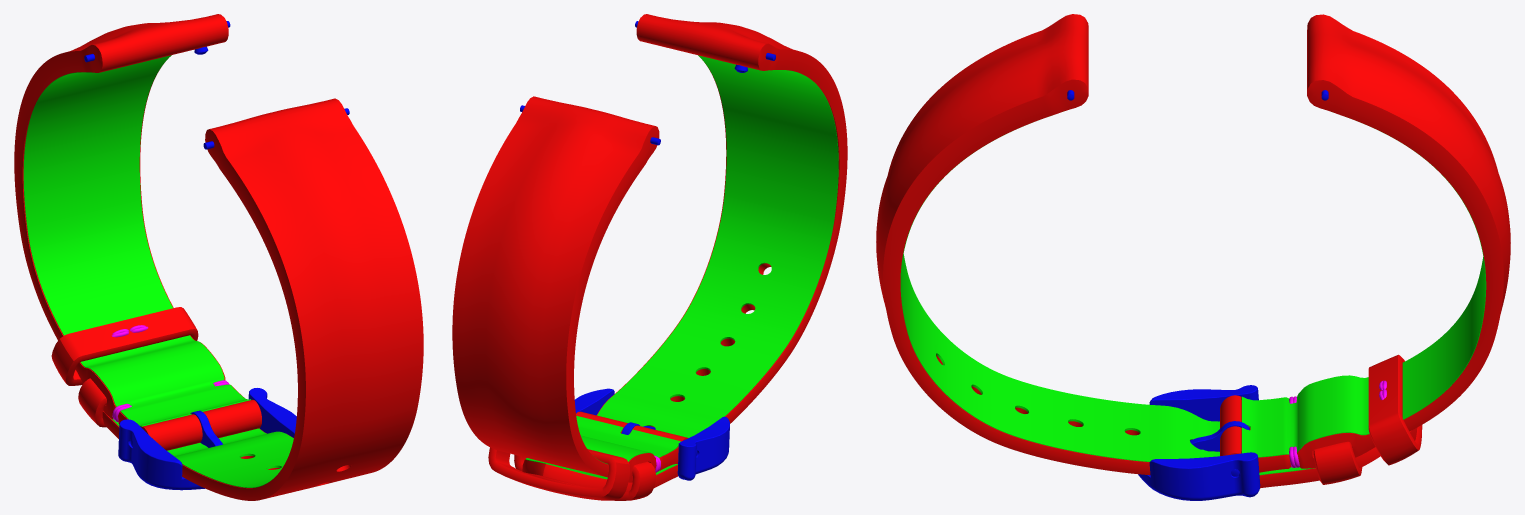
The model's file is Tank_Must_S_Stripes.fbx.
3 views of the same model, side by side, from view 1: azimuth 30°, elevation 25°; view 2: azimuth 150°, elevation 25°; view 3: azimuth 270°, elevation 25° (orthographic). The views are drawn at different scales.
Parts seen in each view (by area): view 1: Tank_Must_S_Stripes; view 2: Tank_Must_S_Stripes; view 3: Tank_Must_S_Stripes.
Boxes of the visible parts, box(x1,y1,x2,y2) form: Tank_Must_S_Stripes: box(14, 14, 423, 500); Tank_Must_S_Stripes: box(452, 14, 847, 500); Tank_Must_S_Stripes: box(876, 14, 1510, 500).
Bounding box in the file's own units: 1.89 × 4.73 × 6.42.
